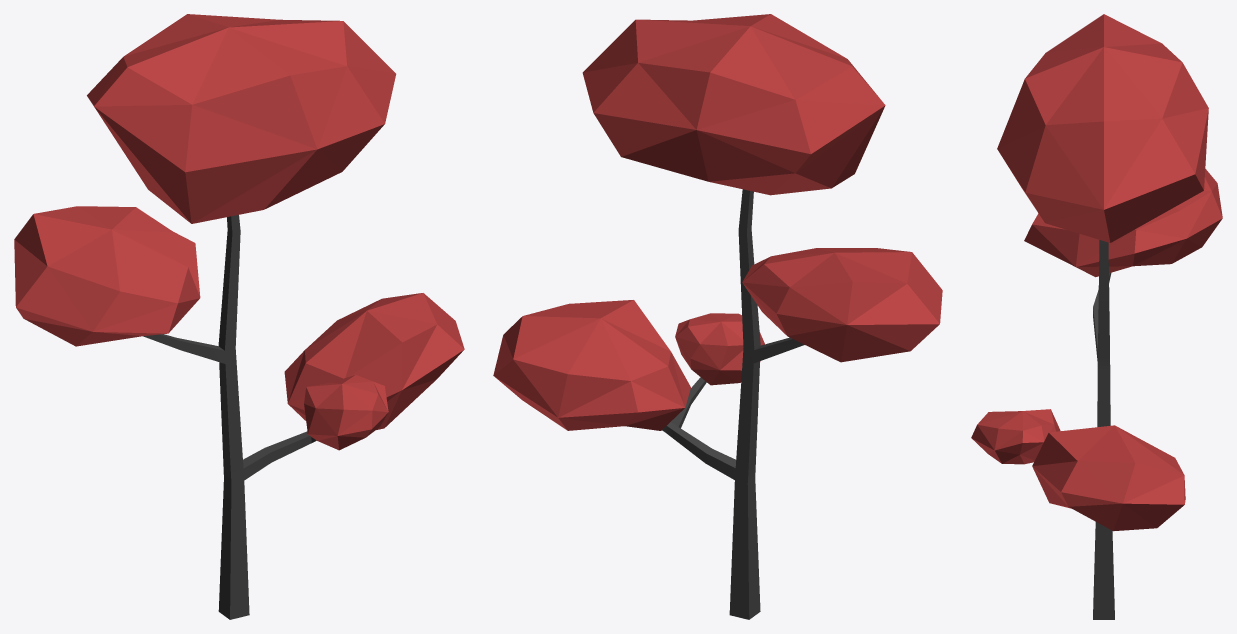
The model's file is timur Baum.fbx.
3 views of the same model, side by side, from view 1: azimuth 30°, elevation 25°; view 2: azimuth 150°, elevation 25°; view 3: azimuth 270°, elevation 25° (orthographic). The views are drawn at different scales.
Visible parts, largest first — view 1: redtree; view 2: redtree; view 3: redtree.
Part boxes in pixels (x1,y1,x2,y2): redtree: (14,14,464,619); redtree: (493,14,942,619); redtree: (971,14,1222,619).
Bounding box in the file's own units: 6.73 × 8.63 × 3.48.
